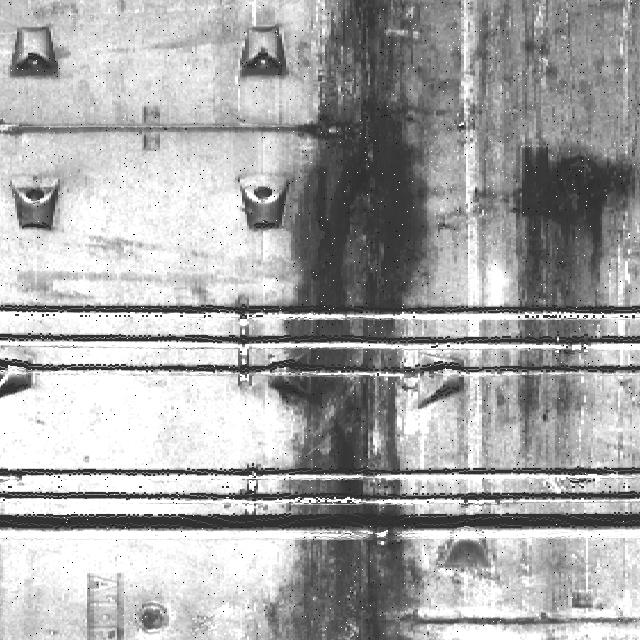leakage: (269, 4, 451, 640), (512, 140, 638, 450)
